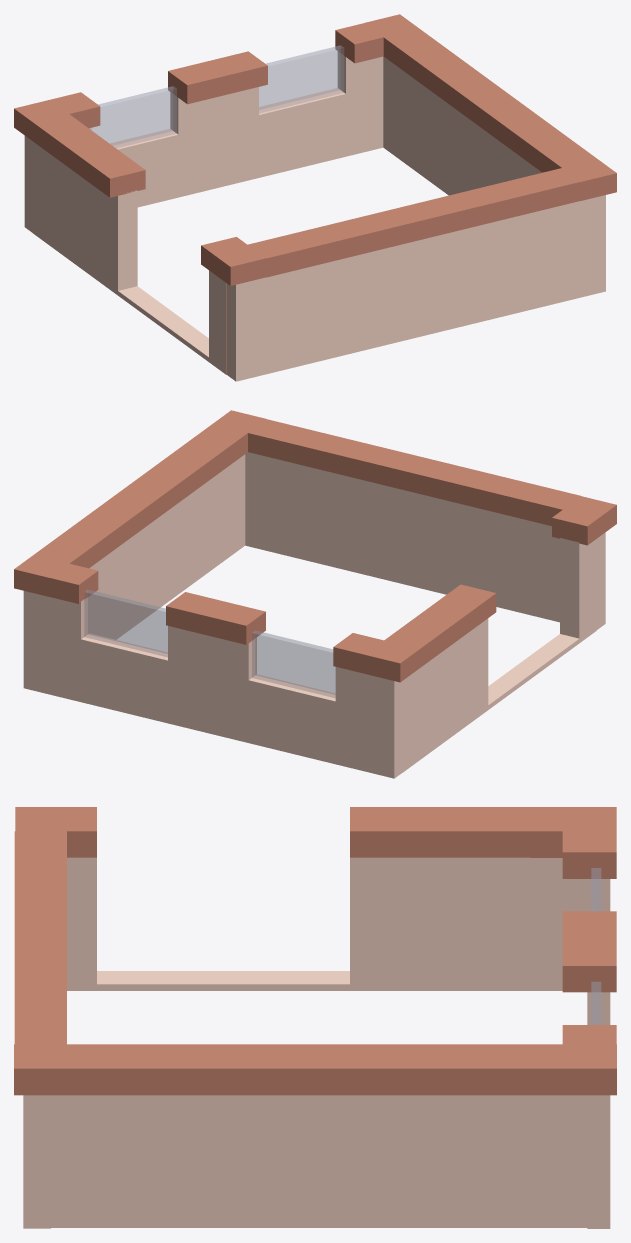
Rendered from M6BO_Model_Muur.fbx.
3 renders of one model, top to bottom at view 1: azimuth 30°, elevation 25°; view 2: azimuth 150°, elevation 25°; view 3: azimuth 270°, elevation 25°, orthographic. The views are drawn at different scales.
Visible parts, largest first — view 1: Muur_Kleur; view 2: Muur_Kleur; view 3: Muur_Kleur.
Boxes of the visible parts, x1,y1,x2,y2 form: Muur_Kleur: [14, 14, 616, 381]; Muur_Kleur: [14, 410, 616, 778]; Muur_Kleur: [14, 807, 616, 1228].
Bounding box in the file's own units: 889 × 262 × 866.
